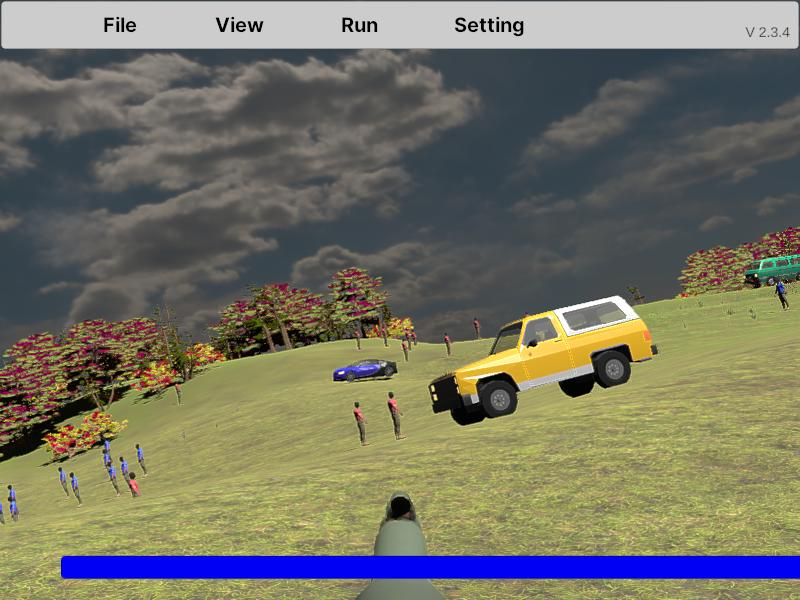Human: (387, 391, 405, 440), (353, 401, 370, 447)
car: (428, 297, 658, 426), (745, 256, 800, 287), (333, 358, 397, 383)
